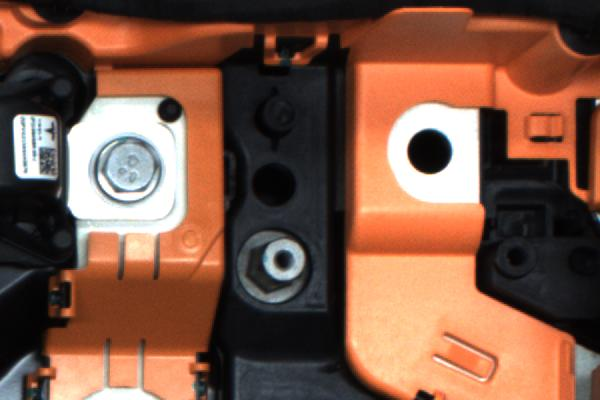nut_b: (85, 126, 171, 212)
